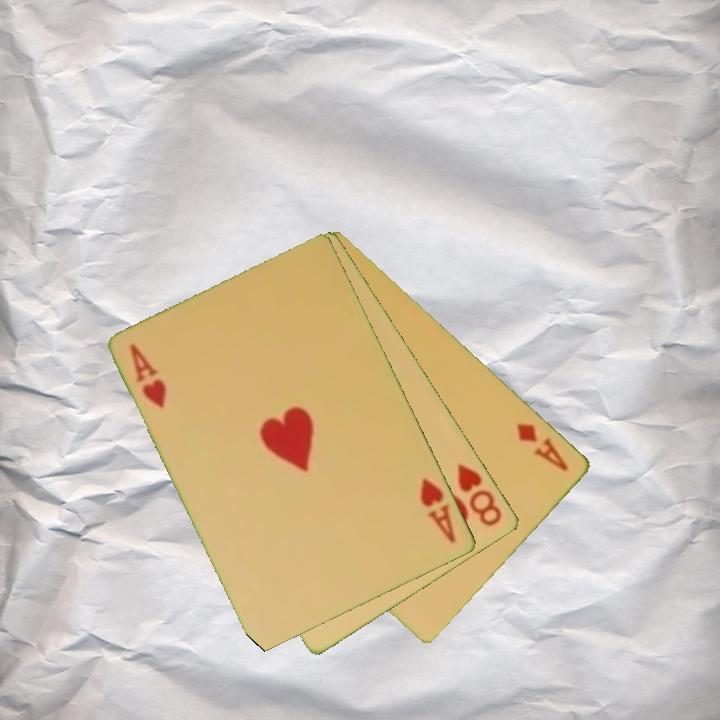8h: (454, 459, 506, 530)
Ad: (513, 419, 573, 475)
Ah: (417, 474, 460, 546), (127, 340, 170, 411)
